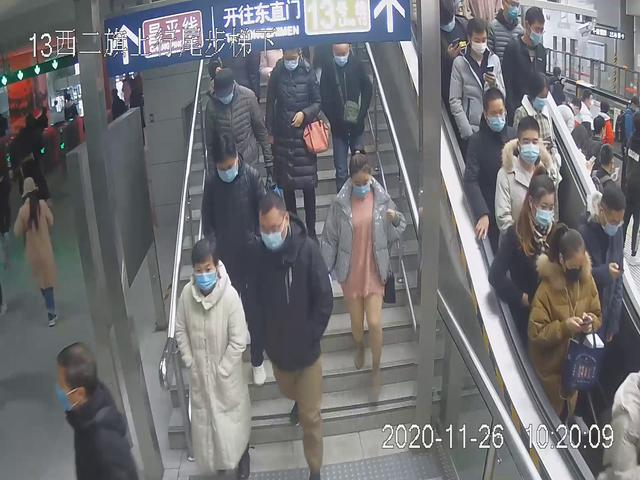person: (240, 191, 335, 480), (317, 149, 408, 413), (167, 233, 259, 480), (204, 132, 277, 394), (527, 225, 600, 444), (258, 36, 328, 252), (571, 177, 629, 387), (196, 64, 275, 209), (319, 32, 374, 197), (447, 17, 504, 167), (9, 173, 63, 329)
